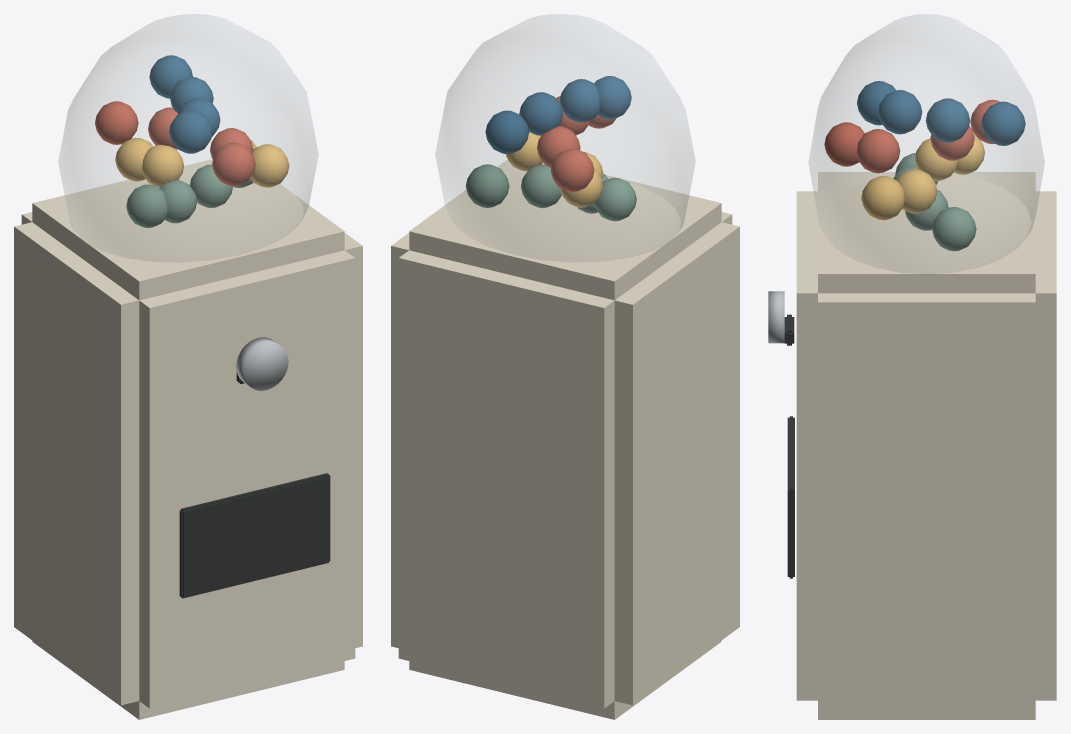
Rendered from capsule_toy_machine.glb.
3 renders of one model, left to right at view 1: azimuth 30°, elevation 25°; view 2: azimuth 150°, elevation 25°; view 3: azimuth 270°, elevation 25°, orthographic.
Parts seen in each view (by area): view 1: capsule_toy_machine_Warm_cream_enamel, capsule_toy_machine_Shop_display_glass, capsule_toy_machine_Anodised_graphite, capsule_toy_machine_Fair_vermilion, capsule_toy_machine_Seto_indigo_glaze, capsule_toy_machine_Sage_powder_coat, capsule_toy_machine_Fair_ochre, capsule_toy_machine_Brushed_stainless; view 2: capsule_toy_machine_Warm_cream_enamel, capsule_toy_machine_Shop_display_glass, capsule_toy_machine_Seto_indigo_glaze, capsule_toy_machine_Sage_powder_coat, capsule_toy_machine_Fair_vermilion, capsule_toy_machine_Fair_ochre; view 3: capsule_toy_machine_Warm_cream_enamel, capsule_toy_machine_Shop_display_glass, capsule_toy_machine_Seto_indigo_glaze, capsule_toy_machine_Fair_ochre, capsule_toy_machine_Fair_vermilion, capsule_toy_machine_Sage_powder_coat, capsule_toy_machine_Anodised_graphite, capsule_toy_machine_Brushed_stainless.
Boxes of the visible parts, x1,y1,x2,y2 form: capsule_toy_machine_Warm_cream_enamel: [14, 159, 362, 719]; capsule_toy_machine_Shop_display_glass: [58, 14, 318, 261]; capsule_toy_machine_Anodised_graphite: [179, 372, 330, 598]; capsule_toy_machine_Fair_vermilion: [95, 101, 255, 186]; capsule_toy_machine_Seto_indigo_glaze: [149, 55, 220, 153]; capsule_toy_machine_Sage_powder_coat: [126, 164, 253, 227]; capsule_toy_machine_Fair_ochre: [115, 138, 289, 187]; capsule_toy_machine_Brushed_stainless: [236, 337, 288, 390]; capsule_toy_machine_Warm_cream_enamel: [391, 159, 739, 719]; capsule_toy_machine_Shop_display_glass: [435, 14, 695, 261]; capsule_toy_machine_Seto_indigo_glaze: [485, 76, 631, 154]; capsule_toy_machine_Sage_powder_coat: [465, 164, 636, 221]; capsule_toy_machine_Fair_vermilion: [537, 96, 616, 192]; capsule_toy_machine_Fair_ochre: [505, 132, 603, 207]; capsule_toy_machine_Warm_cream_enamel: [796, 172, 1056, 719]; capsule_toy_machine_Shop_display_glass: [808, 14, 1044, 274]; capsule_toy_machine_Seto_indigo_glaze: [857, 81, 1025, 145]; capsule_toy_machine_Fair_ochre: [861, 134, 984, 220]; capsule_toy_machine_Fair_vermilion: [824, 99, 999, 173]; capsule_toy_machine_Sage_powder_coat: [893, 153, 976, 251]; capsule_toy_machine_Anodised_graphite: [784, 314, 794, 578]; capsule_toy_machine_Brushed_stainless: [768, 291, 784, 343].
Bounding box in the file's own units: 0.6 × 1.5 × 0.61.
